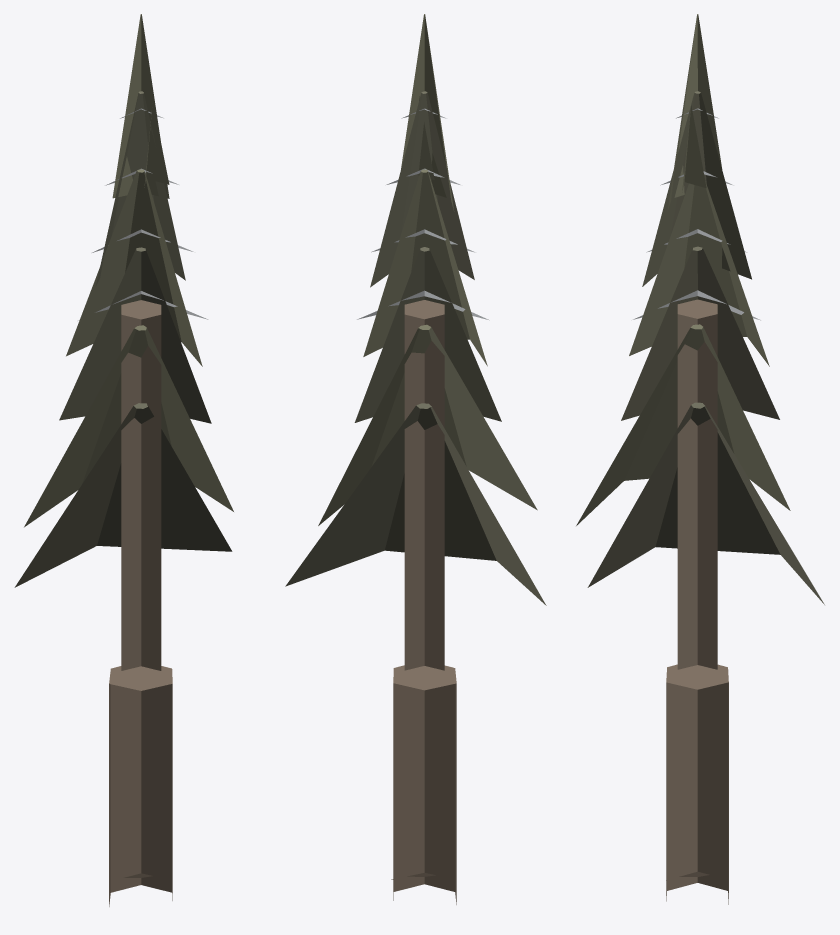
The model's file is shu.luoye__winter.glb.
3 views of the same model, side by side, from view 1: azimuth 30°, elevation 25°; view 2: azimuth 150°, elevation 25°; view 3: azimuth 270°, elevation 25° (orthographic).
Visible parts, largest first — view 1: shu.luoye__winter; view 2: shu.luoye__winter; view 3: shu.luoye__winter.
Part boxes in pixels (x1=…): shu.luoye__winter: x1=14, y1=14, x2=233, y2=906; shu.luoye__winter: x1=285, y1=14, x2=546, y2=904; shu.luoye__winter: x1=576, y1=14, x2=824, y2=904.
Size of the model in its own units: 4.86 by 18.97 by 4.86.
